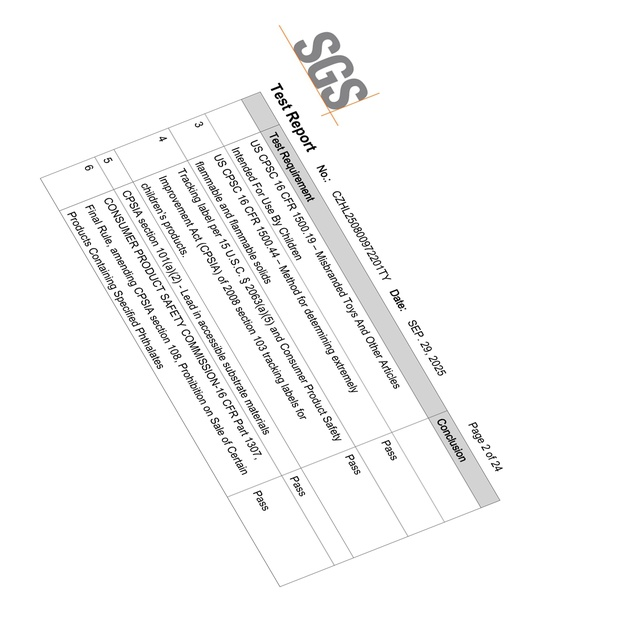sgs: (294, 30, 367, 111)
